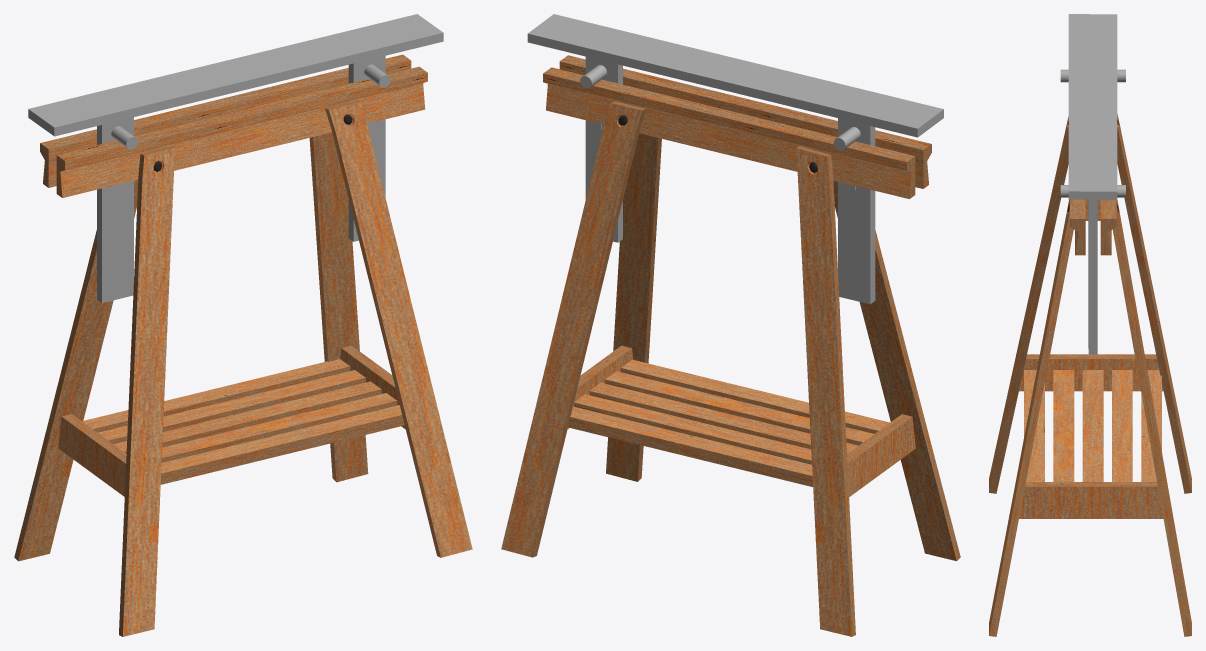
The model's file is Wooden table 3.fbx.
The picture shows the model from 3 angles, left to right: view 1: azimuth 30°, elevation 25°; view 2: azimuth 150°, elevation 25°; view 3: azimuth 270°, elevation 25°; orthographic projection. The views are drawn at different scales.
Parts seen in each view (by area): view 1: Marking Table, Marking Table .001; view 2: Marking Table, Marking Table .001; view 3: Marking Table, Marking Table .001.
Part boxes in pixels (left/top/right/bottom): Marking Table: left=14, top=54, right=472, bottom=636; Marking Table .001: left=28, top=14, right=443, bottom=303; Marking Table: left=501, top=55, right=960, bottom=636; Marking Table .001: left=527, top=14, right=943, bottom=304; Marking Table: left=989, top=114, right=1191, bottom=636; Marking Table .001: left=1060, top=14, right=1125, bottom=354.
Size of the model in its own units: 425 by 506 by 205.
